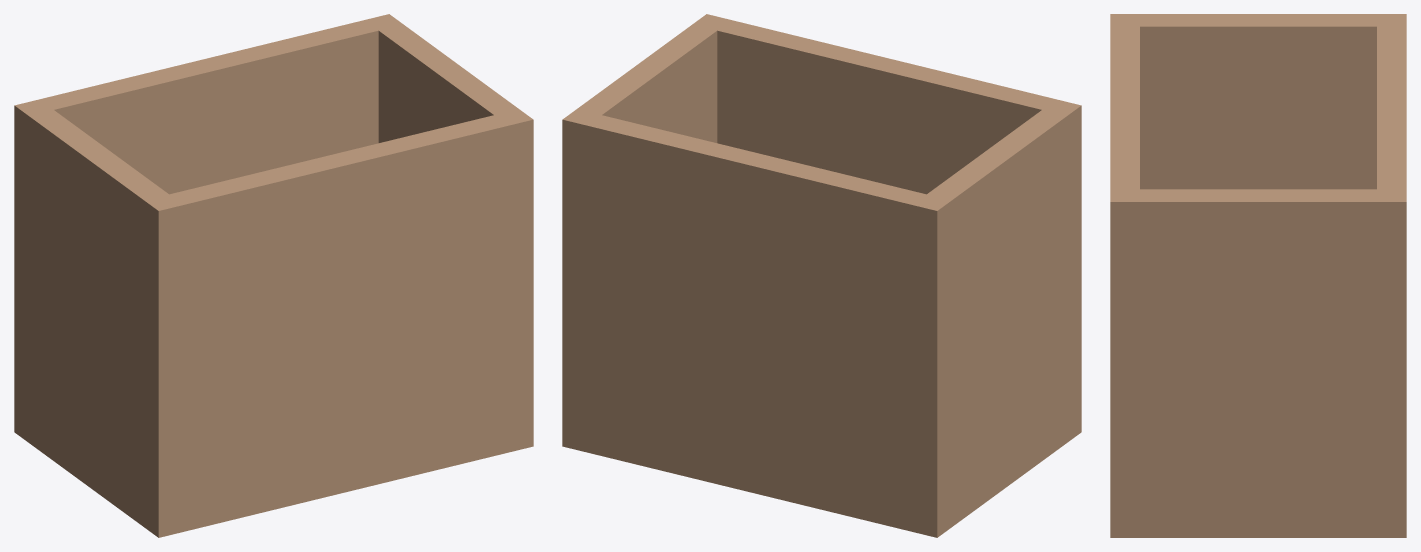
The model's file is planter_box_v5.glb.
The picture shows the model from 3 angles, left to right: view 1: azimuth 30°, elevation 25°; view 2: azimuth 150°, elevation 25°; view 3: azimuth 270°, elevation 25°; orthographic projection. The views are drawn at different scales.
Parts seen in each view (by area): view 1: PlanterBox; view 2: PlanterBox; view 3: PlanterBox.
Part boxes in pixels (bbox=[...]): PlanterBox: bbox=[14, 14, 533, 537]; PlanterBox: bbox=[562, 14, 1081, 537]; PlanterBox: bbox=[1110, 14, 1406, 537].
Bounding box in the file's own units: 0.3 × 0.25 × 0.2.
